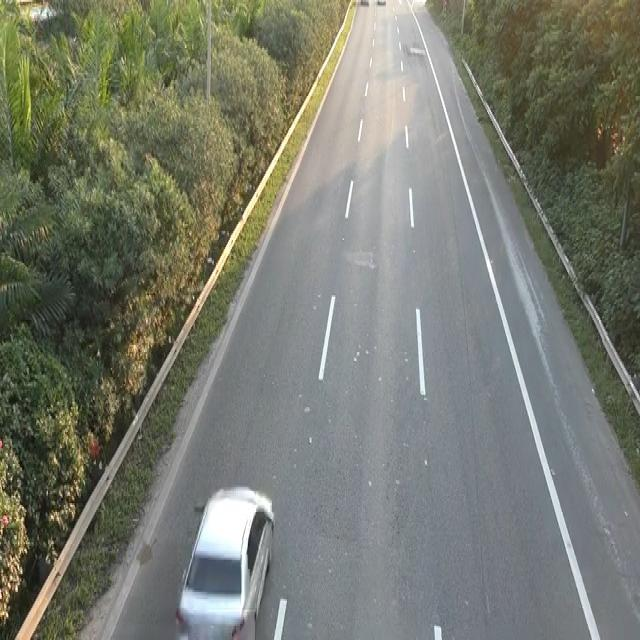bus: (173, 480, 276, 635)
